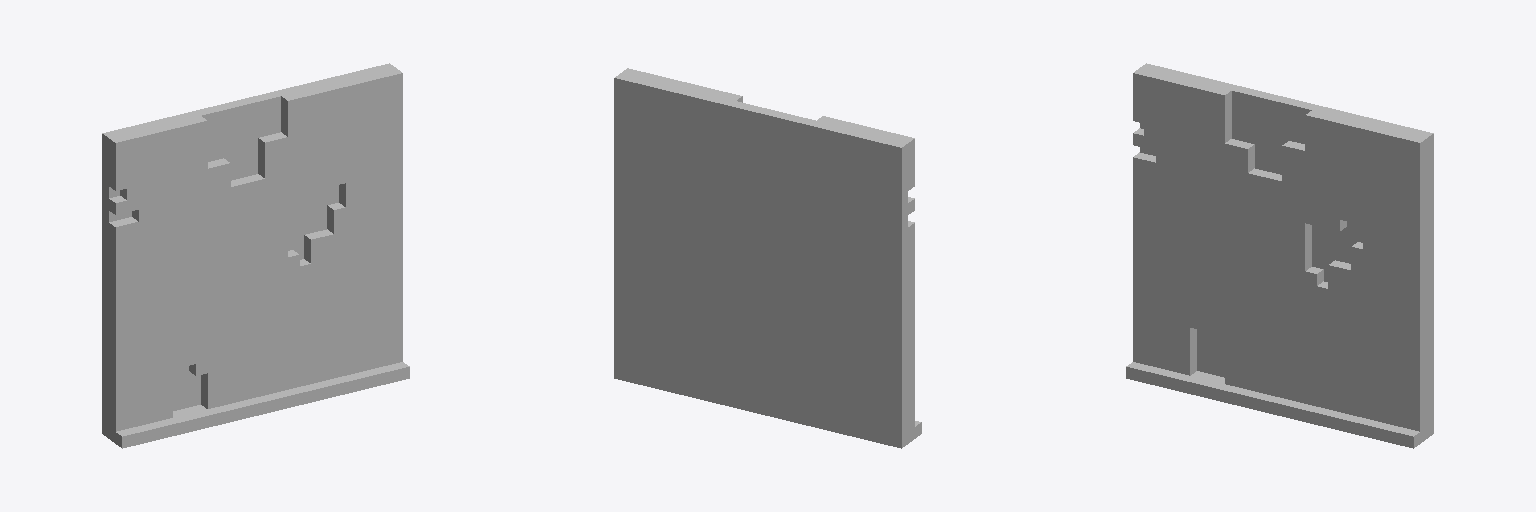
The model's file is Cellblock way half - Copy.obj.
3 renders of one model, left to right at view 1: azimuth 30°, elevation 25°; view 2: azimuth 150°, elevation 25°; view 3: azimuth 330°, elevation 25°, orthographic.
Bounding box in the file's own units: 25 × 25 × 3.